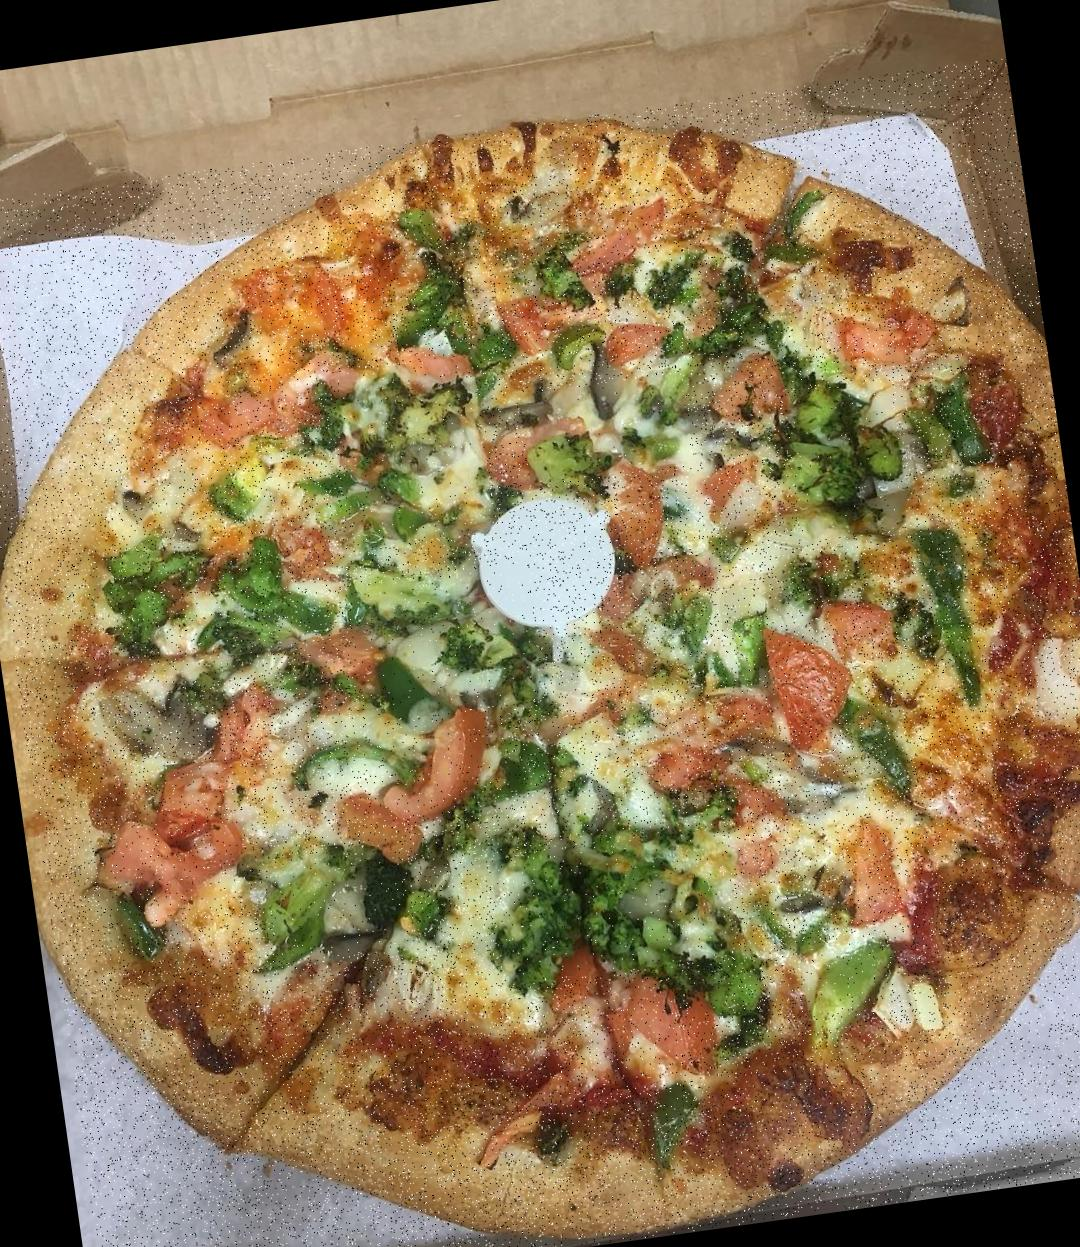Broccoli: (90, 529, 324, 695), (490, 828, 734, 986), (348, 562, 545, 723), (332, 355, 494, 548), (595, 262, 787, 367), (785, 381, 910, 541), (519, 372, 693, 482), (265, 843, 408, 963), (543, 739, 695, 847), (904, 516, 986, 685), (799, 934, 891, 1021)
Pizza: (0, 57, 1080, 1247)
Tomatoes: (86, 761, 262, 928), (734, 593, 855, 739), (360, 708, 512, 821), (585, 967, 723, 1079), (195, 370, 320, 441), (601, 466, 672, 563), (562, 208, 663, 270), (714, 340, 773, 428), (396, 329, 468, 391), (506, 289, 561, 359)
